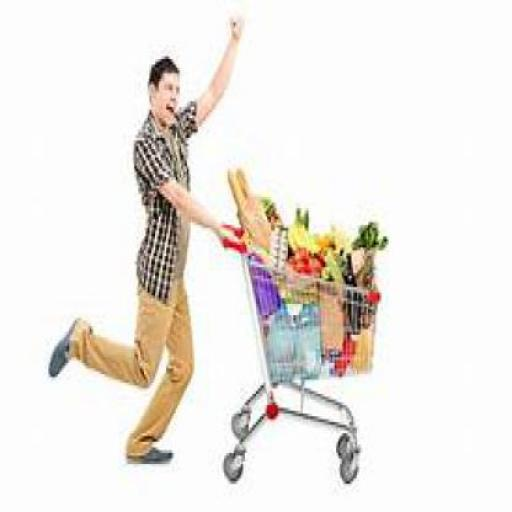shopping_cart: (222, 222, 380, 490)
